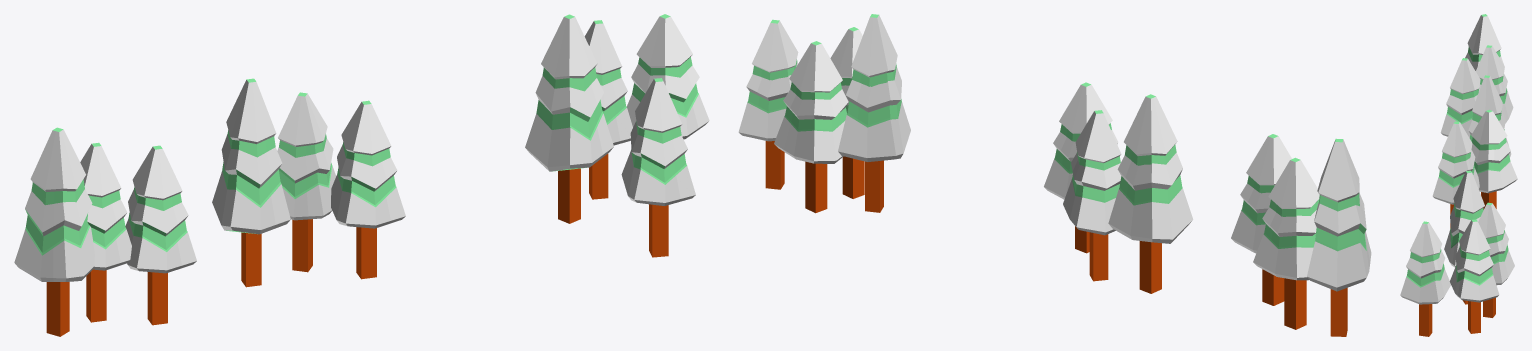
File: agac.fbx
The picture shows the model from 3 angles, left to right: view 1: azimuth 30°, elevation 25°; view 2: azimuth 150°, elevation 25°; view 3: azimuth 270°, elevation 25°; orthographic projection. The views are drawn at different scales.
Visible parts, largest first — view 1: Cube.129, Cube.001; view 2: Cube.129, Cube.001; view 3: Cube.001, Cube.129.
Boxes of the visible parts, left/top/right/bottom form: Cube.129: left=14, top=78, right=405, bottom=336; Cube.001: left=525, top=14, right=709, bottom=257; Cube.129: left=1044, top=82, right=1371, bottom=336; Cube.001: left=738, top=14, right=910, bottom=213; Cube.001: left=1400, top=170, right=1514, bottom=336; Cube.129: left=1432, top=14, right=1517, bottom=228.
Bounding box in the file's own units: 7437 × 2395 × 1764.
